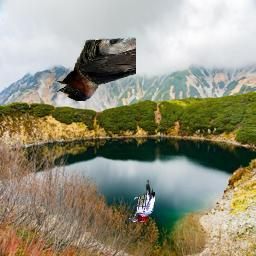Swallow: (54, 37, 136, 101)
Woodpecker: (127, 180, 156, 222)
